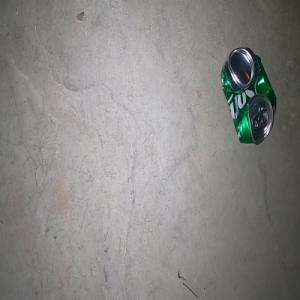SodaCan: (220, 46, 276, 144)
